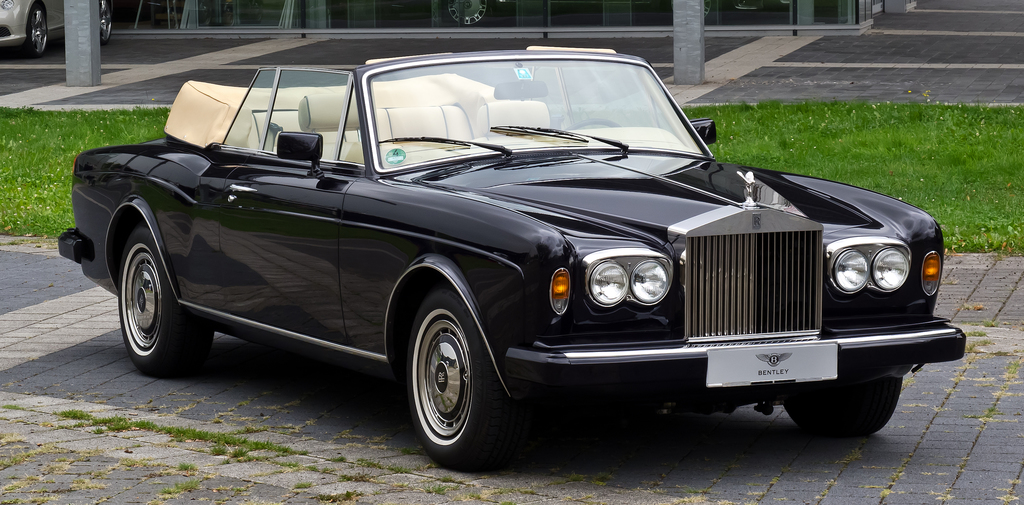Car: (50, 44, 966, 472), (0, 0, 120, 55)
